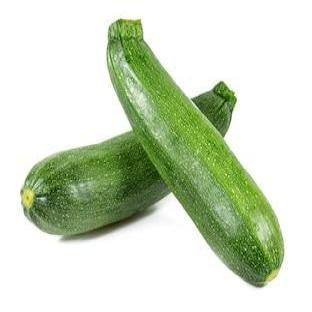Zucchini: (107, 21, 283, 285), (21, 132, 168, 235)
